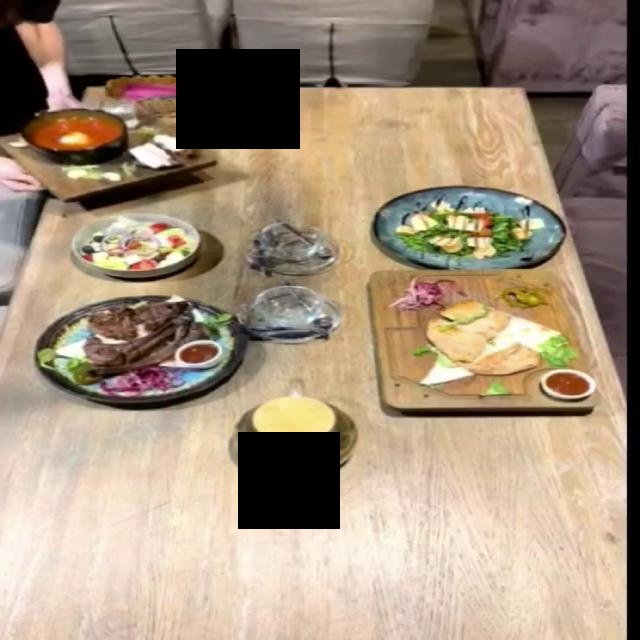meat: (369, 271, 602, 418), (32, 292, 247, 402)
salad: (375, 185, 568, 267), (70, 211, 201, 277)
soup: (14, 107, 195, 183)
tea: (229, 393, 359, 480)
